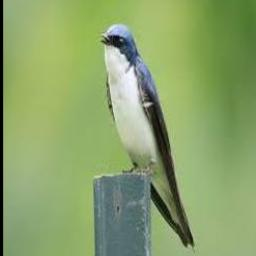Swallow: (98, 24, 195, 248)
